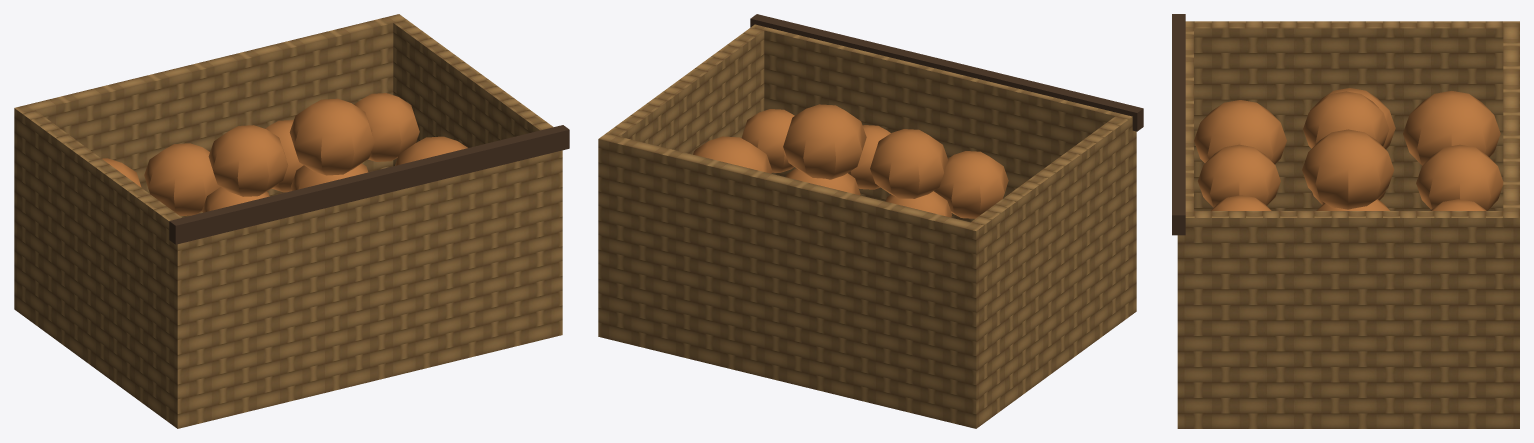
Rendered from tpl_dispensa_cesto_cipolle.glb.
3 renders of one model, left to right at view 1: azimuth 30°, elevation 25°; view 2: azimuth 150°, elevation 25°; view 3: azimuth 270°, elevation 25°, orthographic. The views are drawn at different scales.
Parts seen in each view (by area): view 1: tpl_dispensa_cesto_cipolle; view 2: tpl_dispensa_cesto_cipolle; view 3: tpl_dispensa_cesto_cipolle.
Boxes of the visible parts, x1,y1,x2,y2 form: tpl_dispensa_cesto_cipolle: (14, 14, 569, 428); tpl_dispensa_cesto_cipolle: (598, 14, 1143, 428); tpl_dispensa_cesto_cipolle: (1172, 14, 1519, 428).
Bounding box in the file's own units: 0.348 × 0.176 × 0.254.
3 materials, 1 textured.
